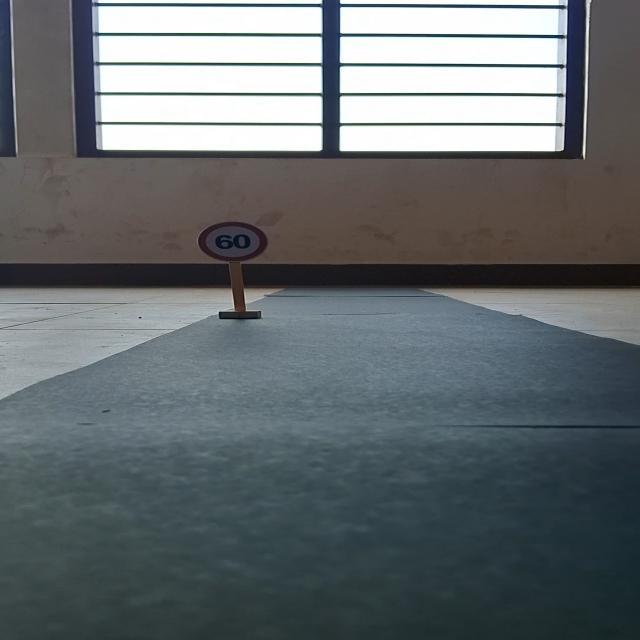Speed60: (196, 220, 274, 263)
